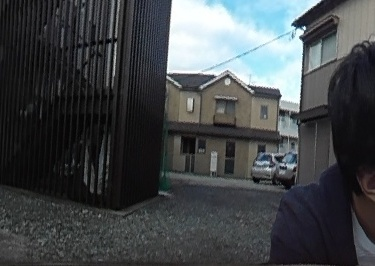person: (271, 32, 375, 266)
